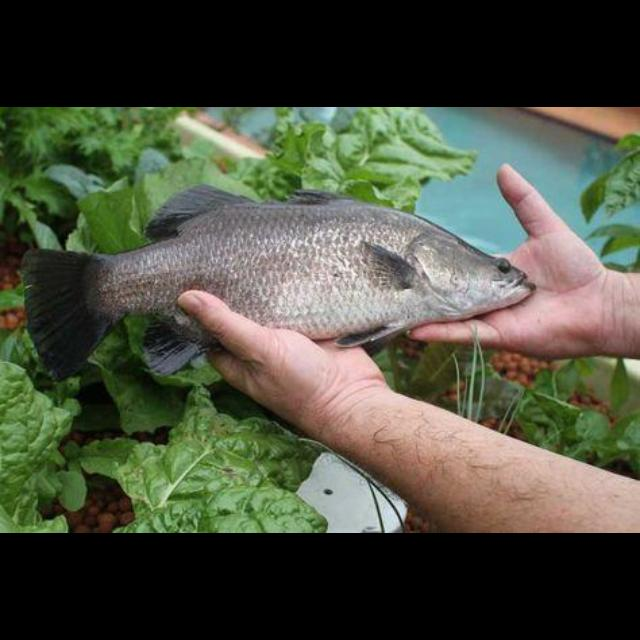Seabass: (24, 182, 534, 384)
